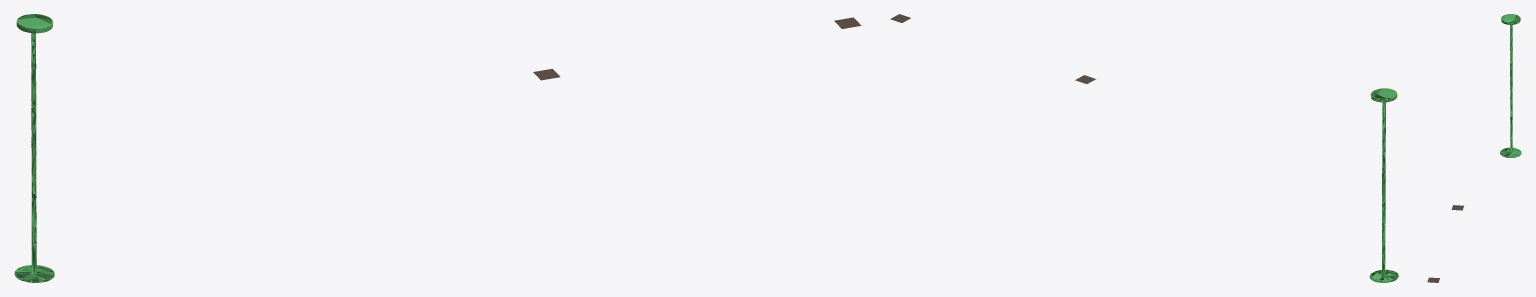
File: g1_05_pole_carry_props.glb
3 renders of one model, left to right at view 1: azimuth 30°, elevation 25°; view 2: azimuth 150°, elevation 25°; view 3: azimuth 270°, elevation 25°, orthographic. The views are drawn at different scales.
Parts seen in each view (by area): view 1: o00; view 2: o00; view 3: o00.
Part boxes in pixels (x1,y1,x2,y2): o00: (14, 14, 54, 282); o00: (1369, 88, 1398, 282); o00: (1500, 14, 1521, 157).
Size of the model in its own units: 3.89 by 1.23 by 0.7755.
